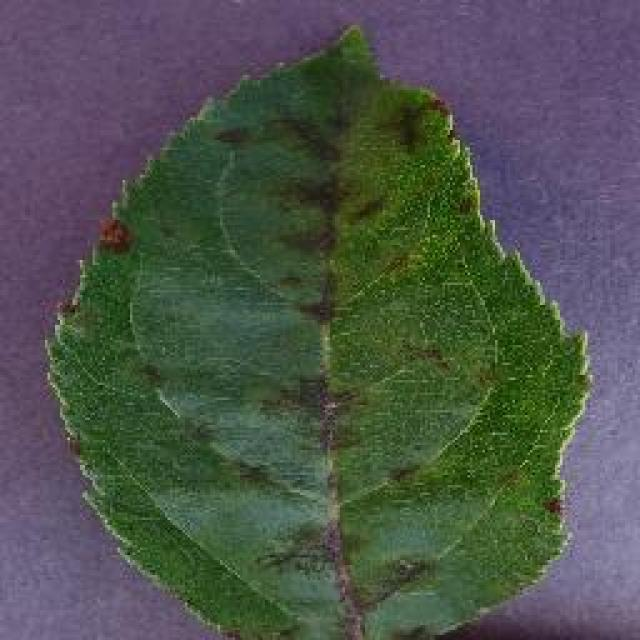apple scab disease: (42, 20, 592, 638)
